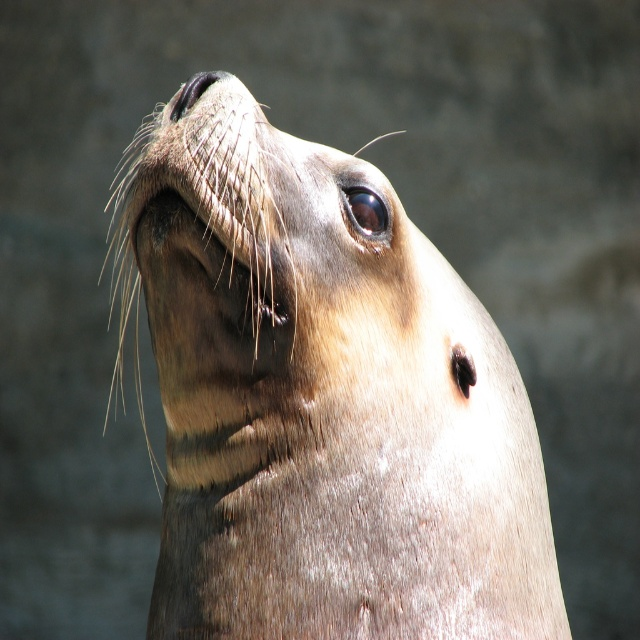Sea lion: (99, 73, 576, 639)
